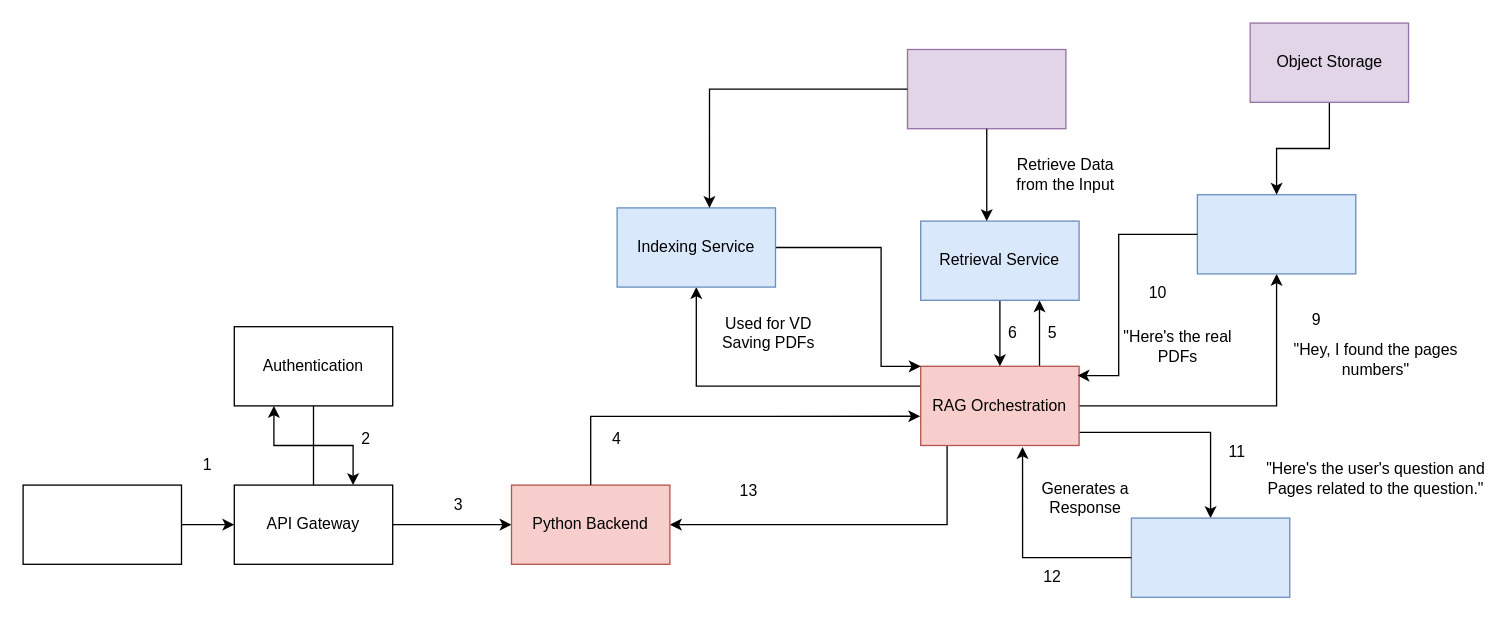
Image size: 1511x620. Some labels were removed from this diagram. Each missing label, with the box of its shape:
DocumentController Service: (1196, 193, 1356, 274)
Multimodal Inference Service: (1130, 517, 1290, 597)
Qdrant: (906, 48, 1066, 129)
User Interface: (22, 484, 182, 564)
